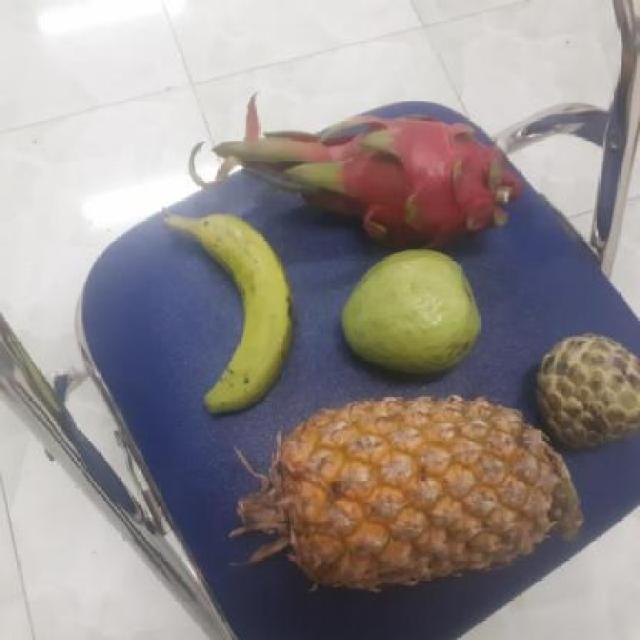banana: (171, 212, 292, 406)
dragon fruit: (302, 110, 510, 245)
guava: (335, 252, 481, 374)
pineapple: (236, 396, 573, 589)
sugar apple: (529, 335, 640, 453)
